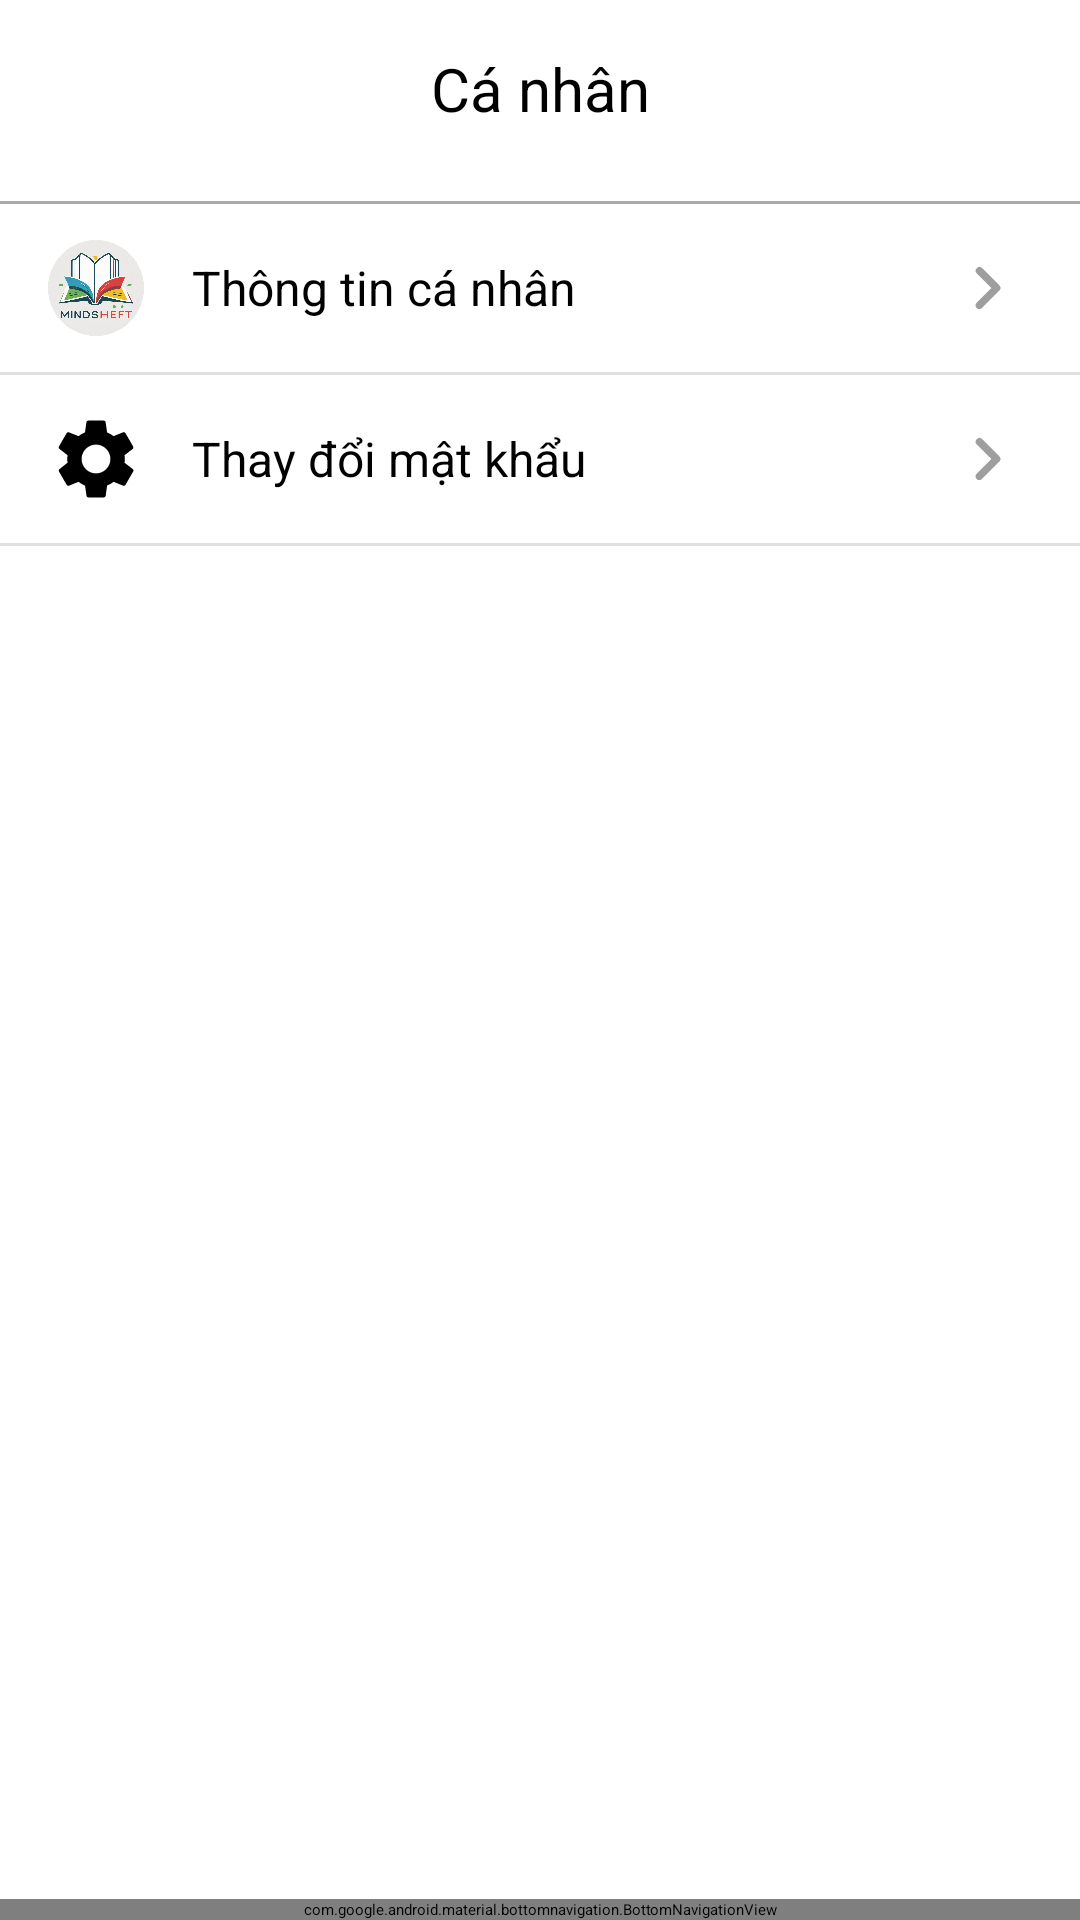

Named icons in this screenshot (1080 x 1920) and their centers, [x,y]:
Go: [988,288], [988,459]
